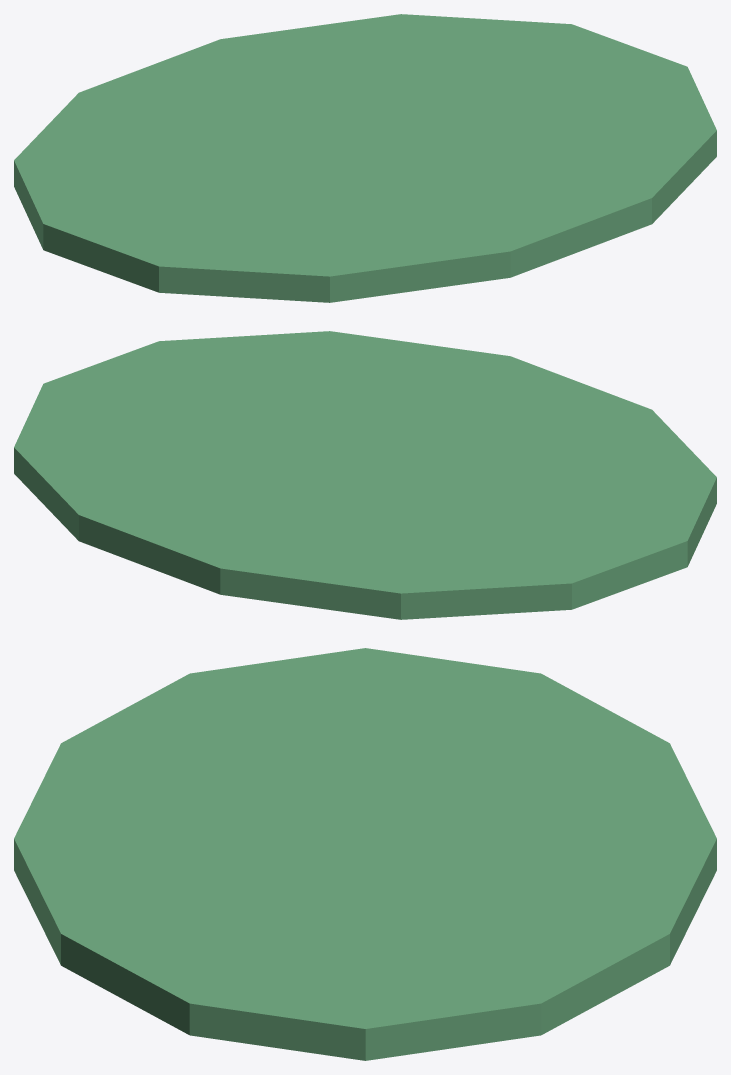
The model's file is round_table.glb.
3 renders of one model, top to bottom at view 1: azimuth 30°, elevation 25°; view 2: azimuth 150°, elevation 25°; view 3: azimuth 270°, elevation 25°, orthographic. The views are drawn at different scales.
Parts seen in each view (by area): view 1: round_table; view 2: round_table; view 3: round_table.
Part boxes in pixels (x1,y1,x2,y2): round_table: [14, 14, 716, 302]; round_table: [14, 331, 716, 619]; round_table: [14, 648, 716, 1060].
Size of the model in its own units: 3.59 by 0.165 by 2.8.
